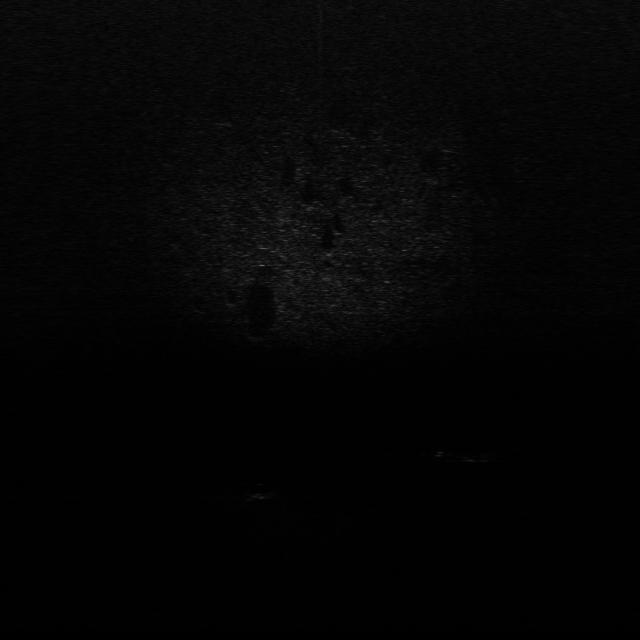ball: (247, 480, 277, 504)
human body: (426, 443, 516, 468)
